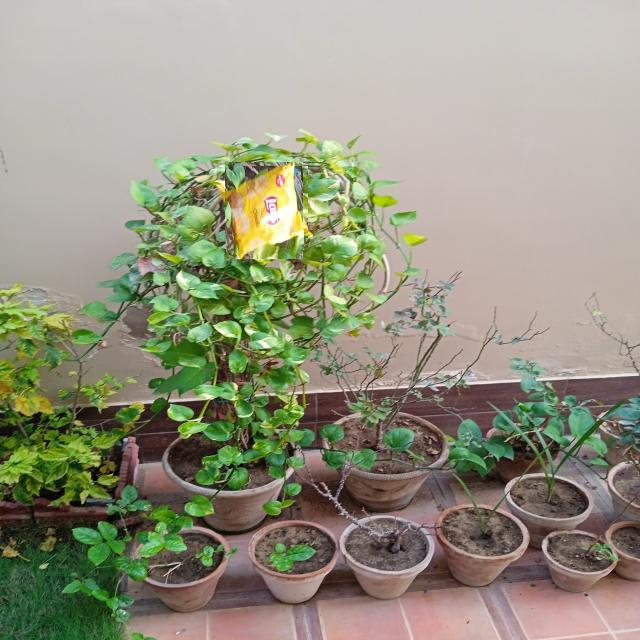Plastic: (219, 166, 308, 255)
